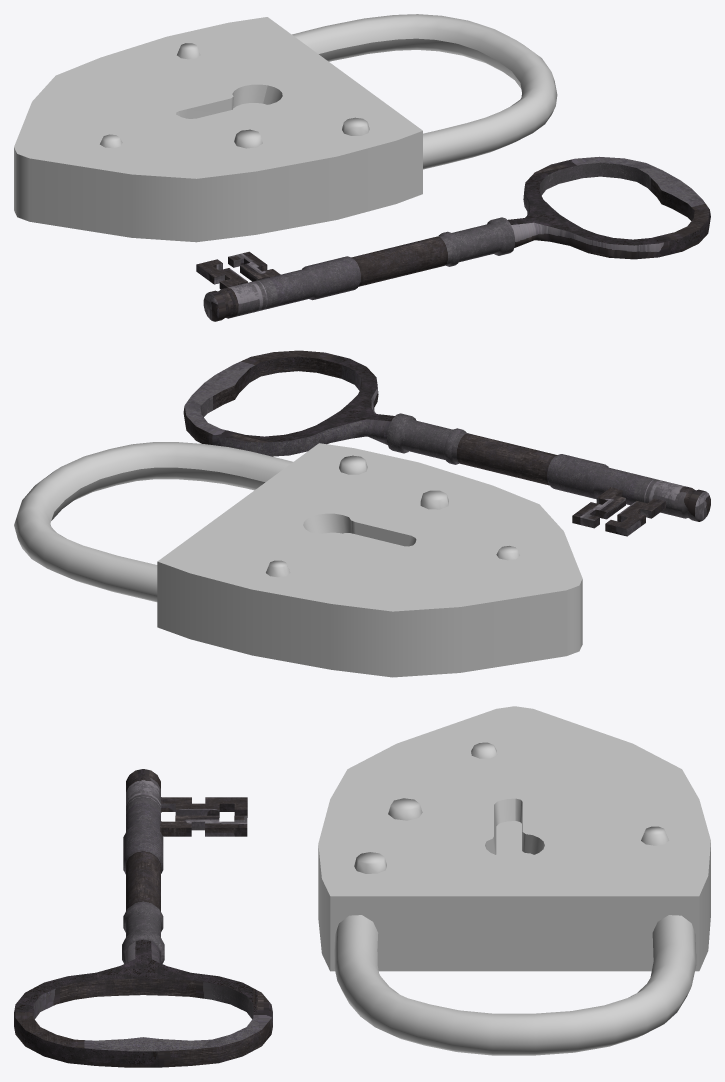
3 renders of one model, top to bottom at view 1: azimuth 30°, elevation 25°; view 2: azimuth 150°, elevation 25°; view 3: azimuth 270°, elevation 25°, orthographic. The views are drawn at different scales.
Parts seen in each view (by area): view 1: locker_low, key_low; view 2: locker_low, key_low; view 3: locker_low, key_low.
Part boxes in pixels (left/top/right/bottom): locker_low: left=14, top=14, right=557, bottom=242; key_low: left=196, top=156, right=710, bottom=321; locker_low: left=14, top=442, right=582, bottom=677; key_low: left=183, top=350, right=710, bottom=536; locker_low: left=318, top=706, right=710, bottom=1055; key_low: left=14, top=769, right=272, bottom=1067.
Size of the model in its own units: 197 by 26.28 by 194.
